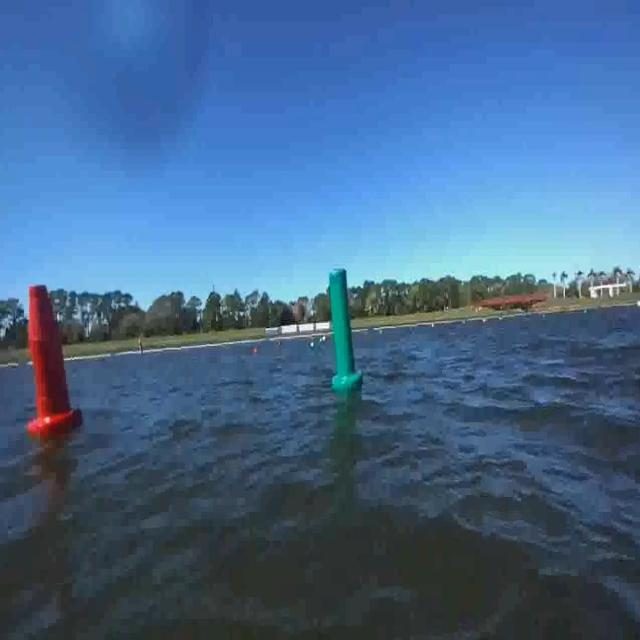green-column-buoy: (328, 268, 363, 394)
red-column-buoy: (24, 283, 77, 436)
